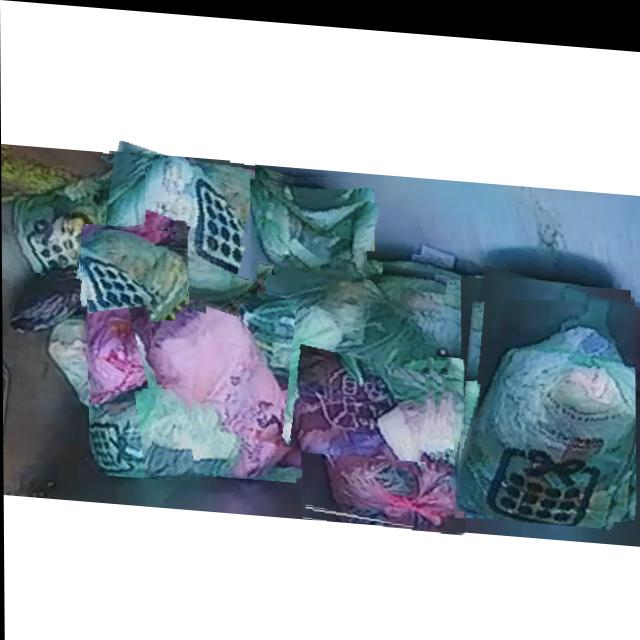general_trashbag: (207, 240, 432, 446), (454, 286, 635, 518), (103, 153, 255, 295), (16, 161, 144, 273), (250, 171, 364, 275), (89, 386, 191, 475), (82, 225, 187, 302)
other_trashbag: (138, 298, 296, 473), (311, 342, 464, 521), (88, 291, 149, 398)
